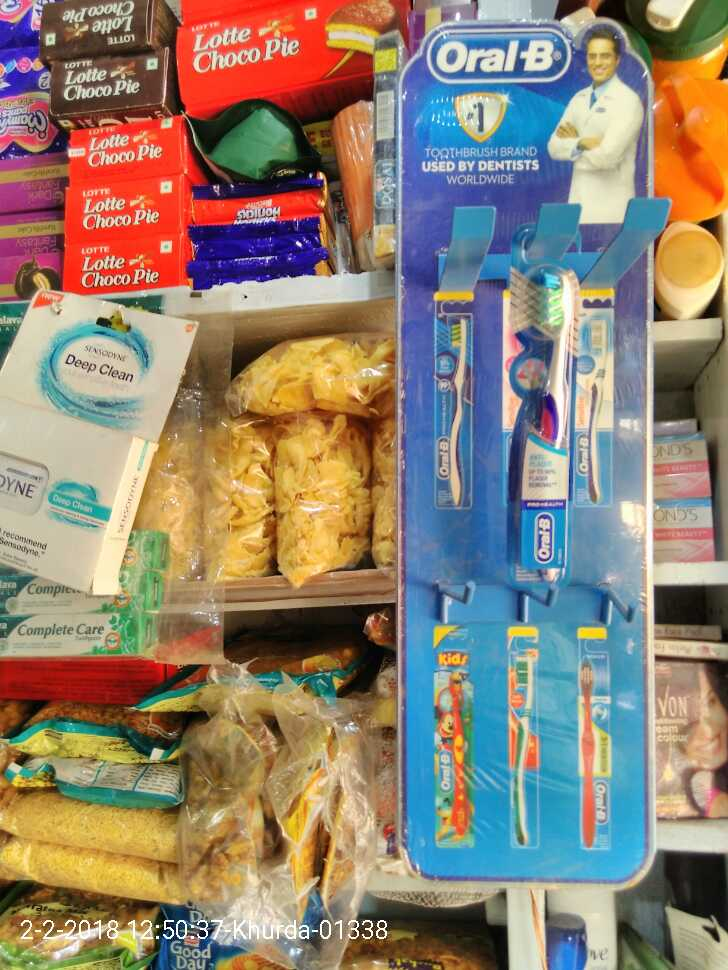oralb: (503, 253, 573, 581)
